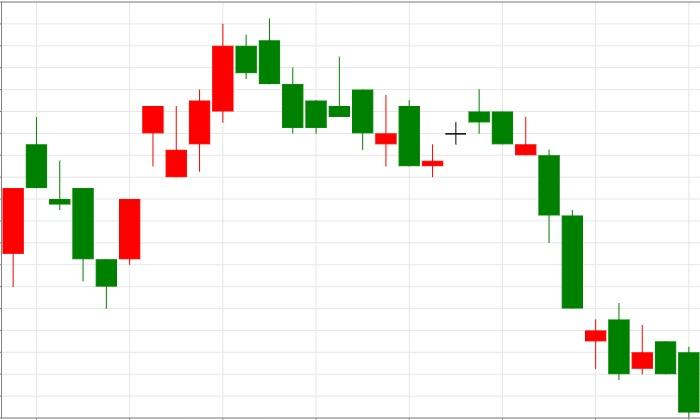morning_star_rise: (25, 117, 141, 309)
